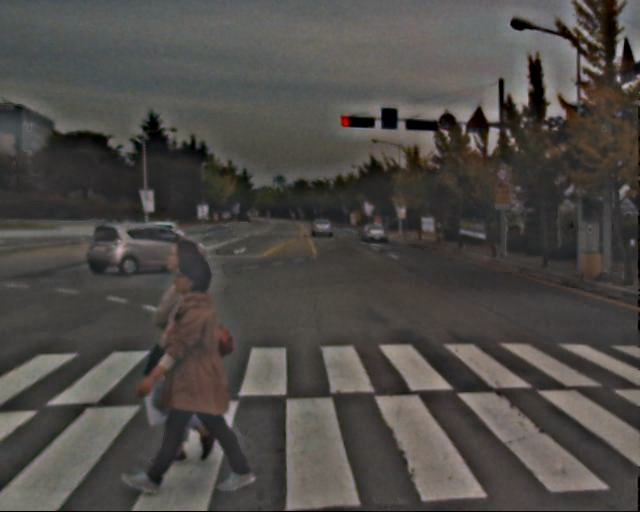person: (151, 256, 247, 492), (144, 243, 240, 453)
